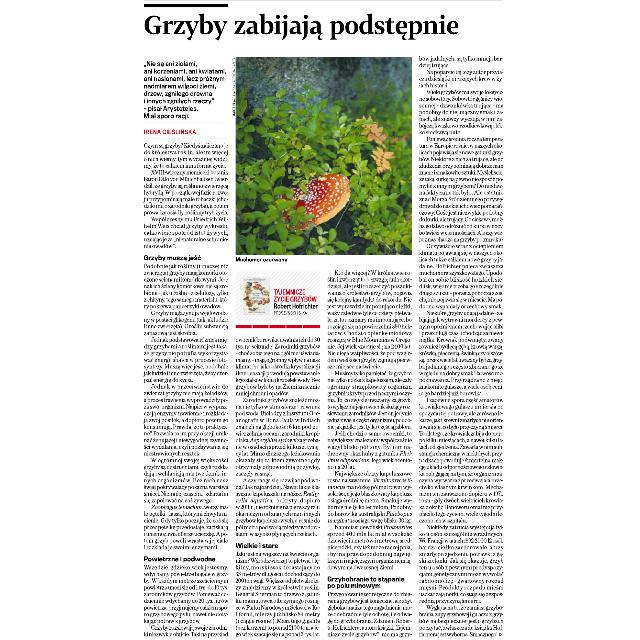author: (141, 125, 199, 137)
body: (414, 56, 502, 640), (140, 140, 230, 640), (323, 268, 412, 640), (233, 336, 321, 640)
caption: (234, 255, 288, 265)
image: (234, 56, 412, 256)
lead: (141, 60, 227, 120)
title: (141, 8, 469, 48)
